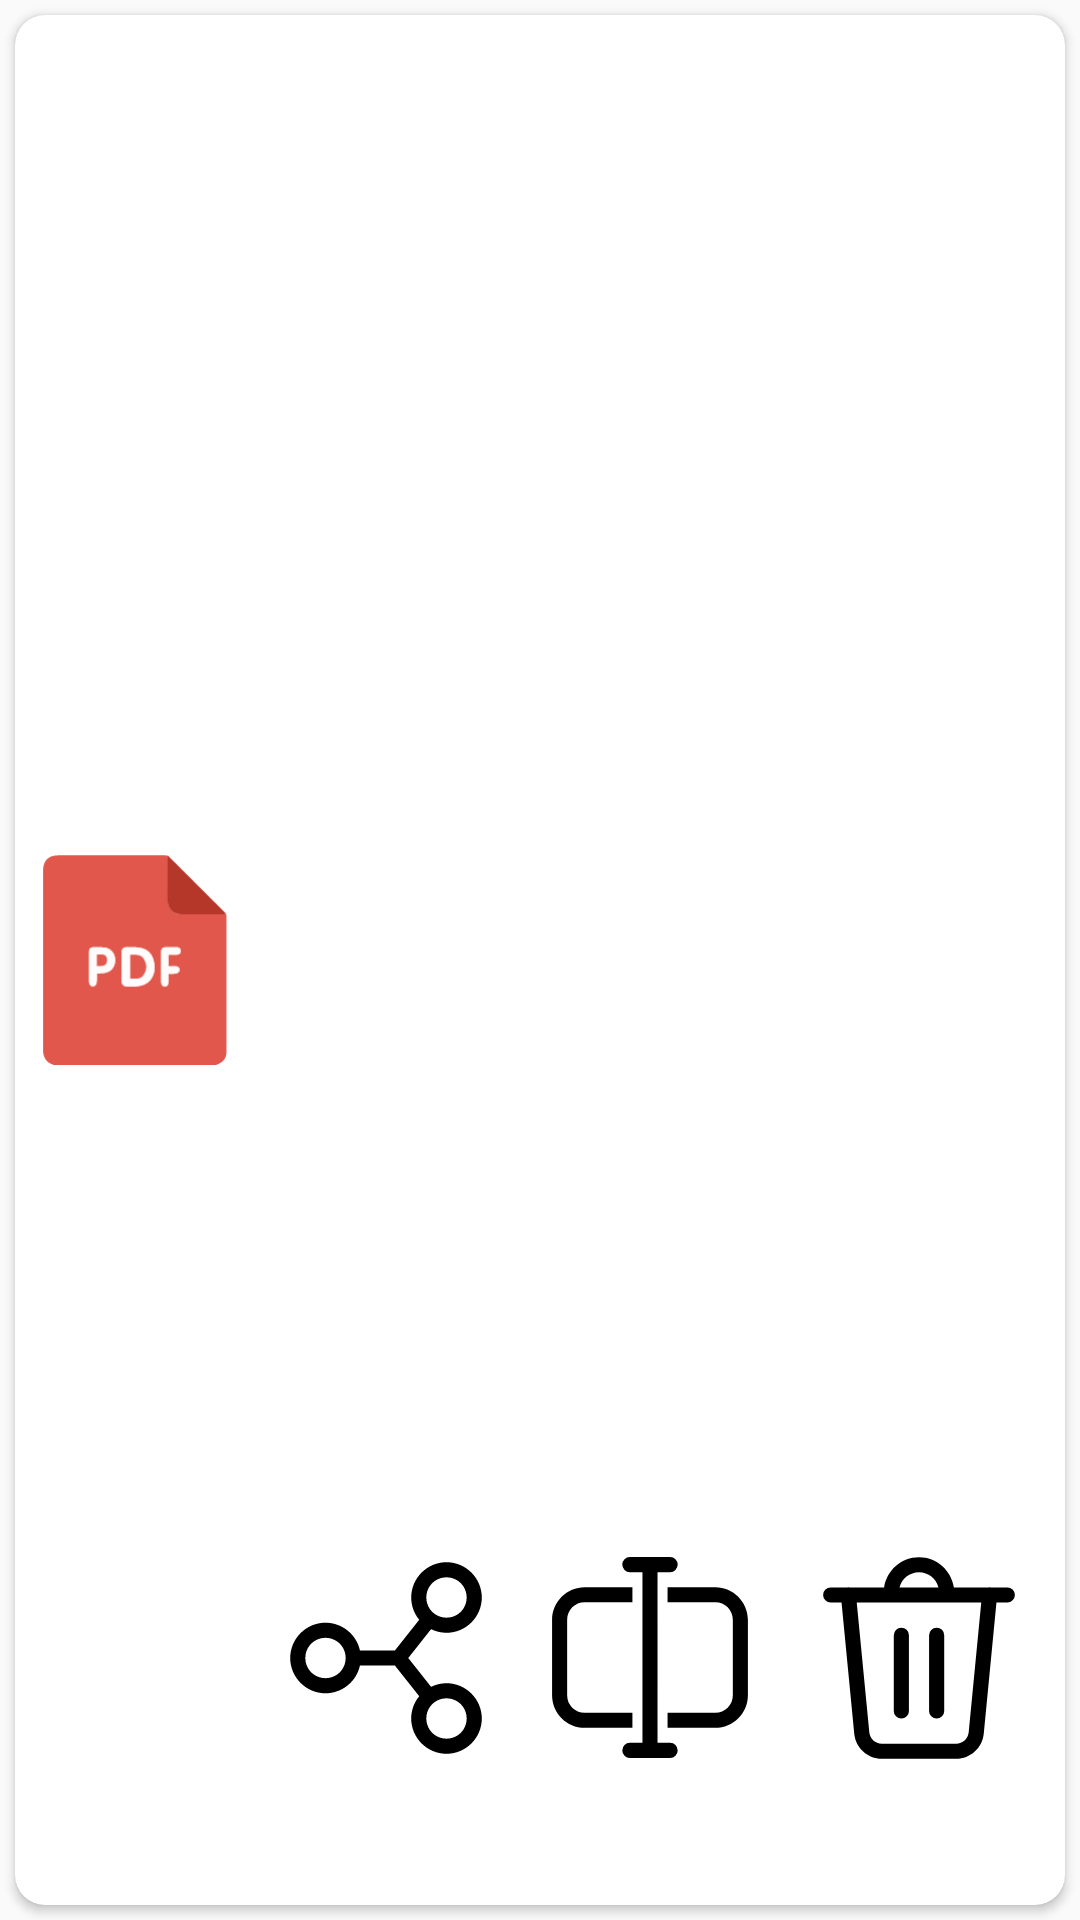

Screen size 1080x1920. Icon name, then its box in pixels as (x1,y1,x2,y2):
delete: (823,1557,1015,1759)
rename: (552,1557,748,1758)
share: (290,1562,482,1754)
